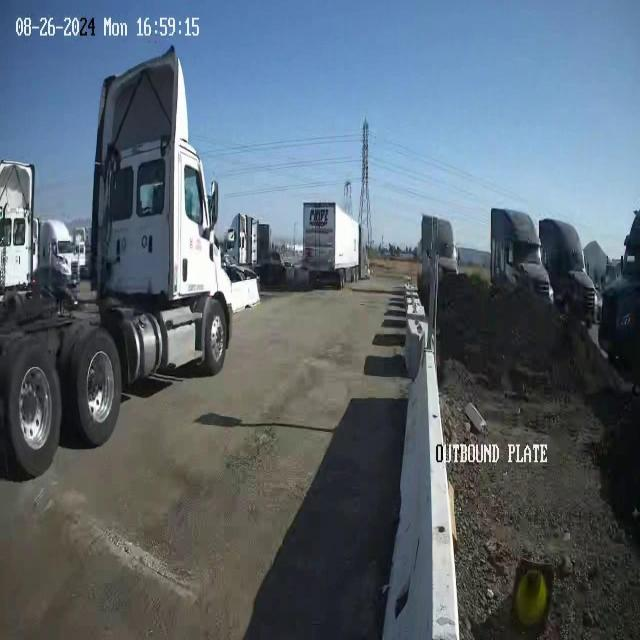TRUCK_IN: (1, 44, 259, 481)
